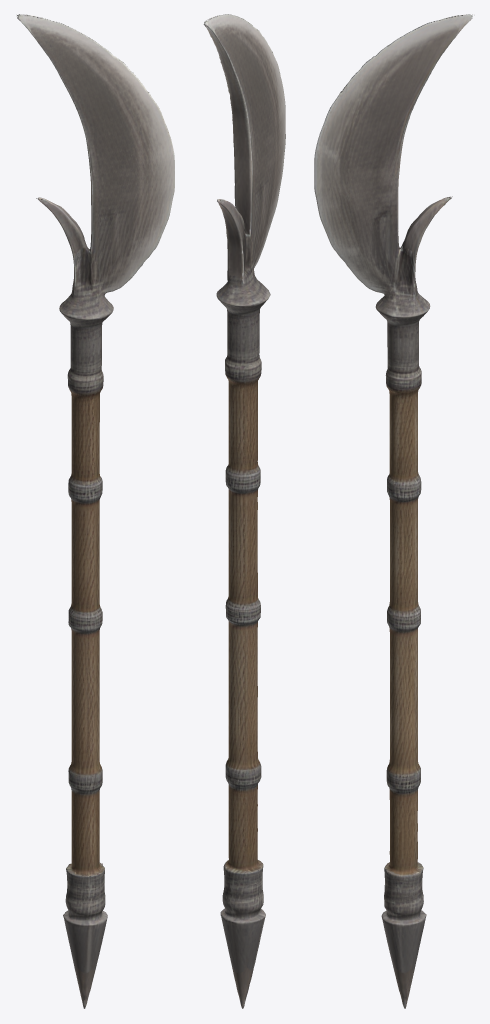
File: look-weapon-t4-rodin.glb
The picture shows the model from 3 angles, left to right: view 1: azimuth 90°, elevation 25°; view 2: azimuth 150°, elevation 25°; view 3: azimuth 270°, elevation 25°; orthographic projection.
Visible parts, largest first — view 1: model; view 2: model; view 3: model.
Part boxes in pixels (x1,y1,x2,y2): model: (17,14,174,1008); model: (203,14,285,1008); model: (314,14,472,1008).
Size of the model in its own units: 0.0901 by 1.9 by 0.2782.
Materials: 1 (1 with a texture image).
